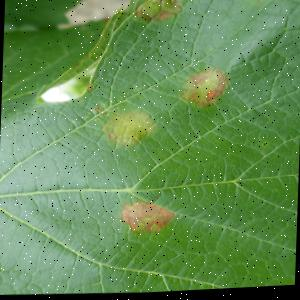Folha: (0, 0, 300, 300)
Fungo: (100, 107, 157, 151), (178, 68, 230, 110), (119, 200, 176, 236), (133, 0, 182, 25), (241, 0, 299, 6), (92, 106, 109, 117), (205, 91, 216, 99), (92, 106, 102, 113), (86, 84, 94, 90), (261, 144, 267, 148), (102, 112, 108, 116)
